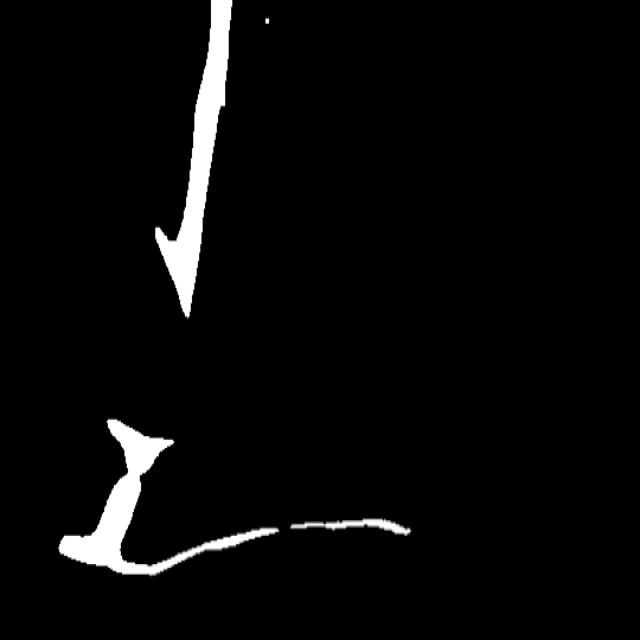sup: (272, 518, 297, 538)
